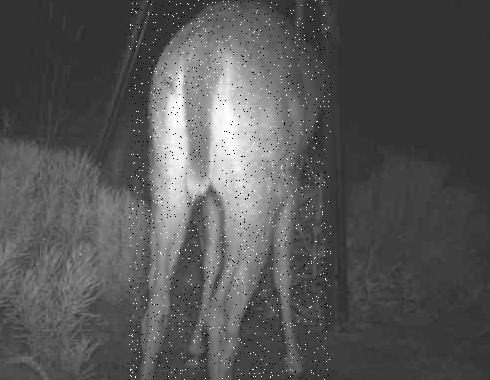Deer: (129, 0, 331, 380)
